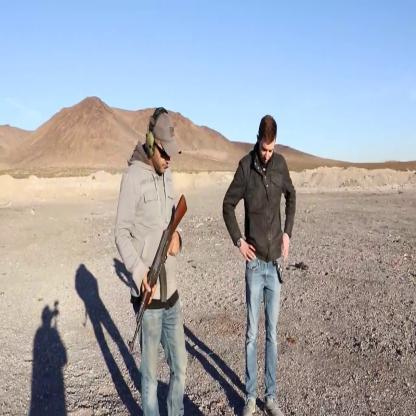long weapon: (117, 187, 189, 357)
